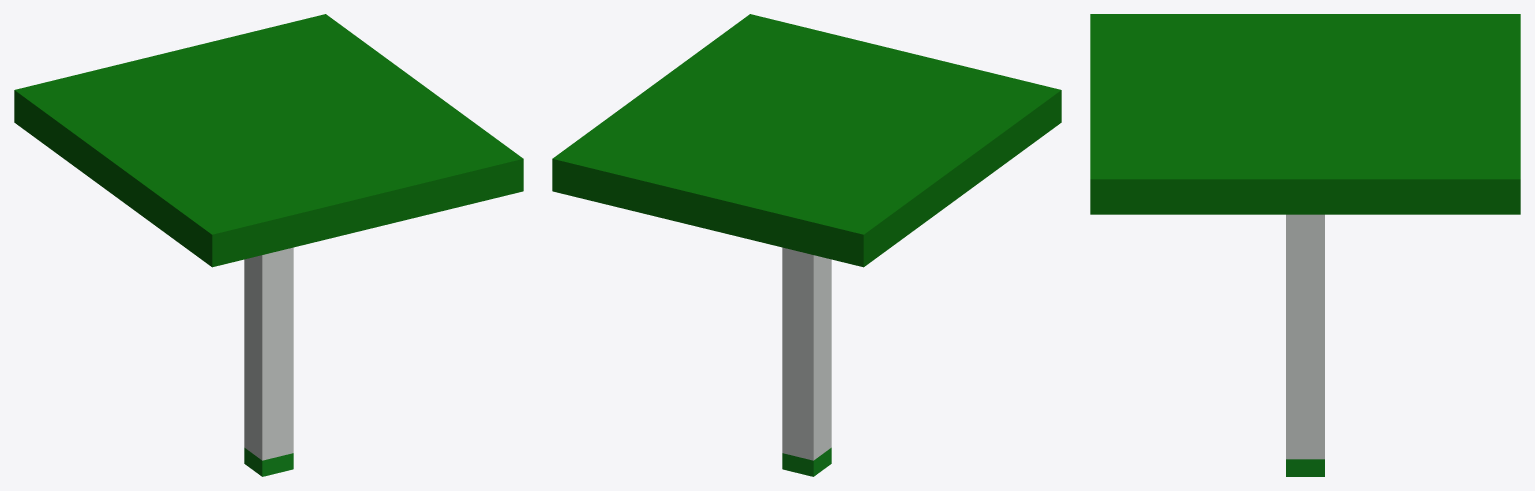
Rendered from voxeltable_nolegs.dae.
The picture shows the model from 3 angles, left to right: view 1: azimuth 30°, elevation 25°; view 2: azimuth 150°, elevation 25°; view 3: azimuth 270°, elevation 25°; orthographic projection. The views are drawn at different scales.
Parts seen in each view (by area): view 1: Object_2; view 2: Object_2; view 3: Object_2.
Part boxes in pixels (<box>): Object_2: <box>14,14,523,476</box>; Object_2: <box>552,14,1061,476</box>; Object_2: <box>1090,14,1520,476</box>.
Size of the model in its own units: 0.7371 by 0.8108 by 0.774.
